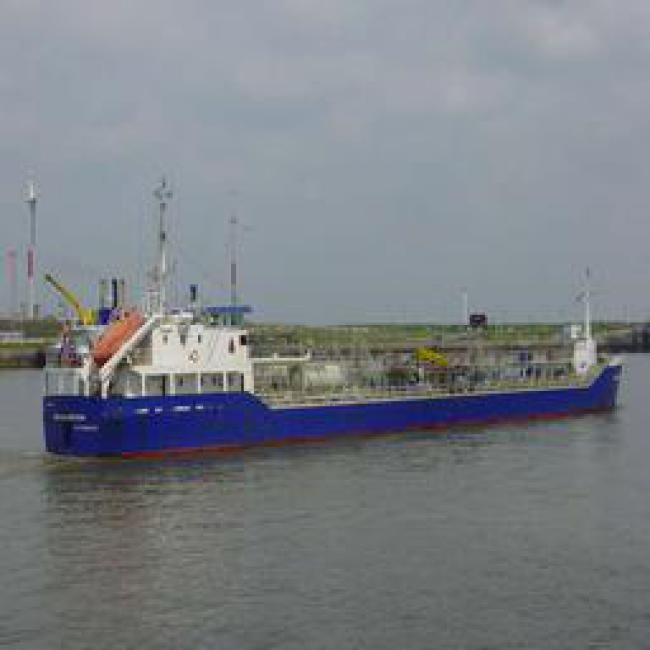Ship: (44, 317, 636, 444)
